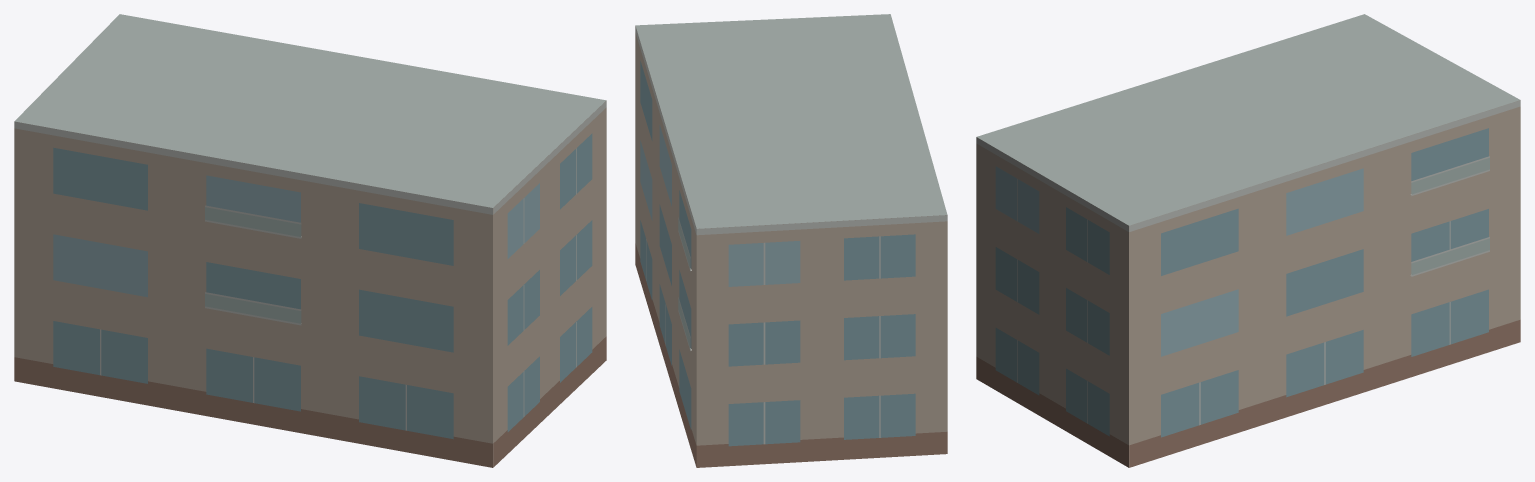
File: survey-upis-32809118.glb
The picture shows the model from 3 angles, left to right: view 1: azimuth 30°, elevation 25°; view 2: azimuth 150°, elevation 25°; view 3: azimuth 270°, elevation 25°; orthographic projection. The views are drawn at different scales.
Parts seen in each view (by area): view 1: survey-upis-32809118.tmp; view 2: survey-upis-32809118.tmp; view 3: survey-upis-32809118.tmp.
Part boxes in pixels (x1,y1,x2,y2): survey-upis-32809118.tmp: [14, 14, 606, 467]; survey-upis-32809118.tmp: [635, 14, 947, 467]; survey-upis-32809118.tmp: [976, 14, 1520, 467].
Bounding box in the file's own units: 17.17 × 9.15 × 18.65.
